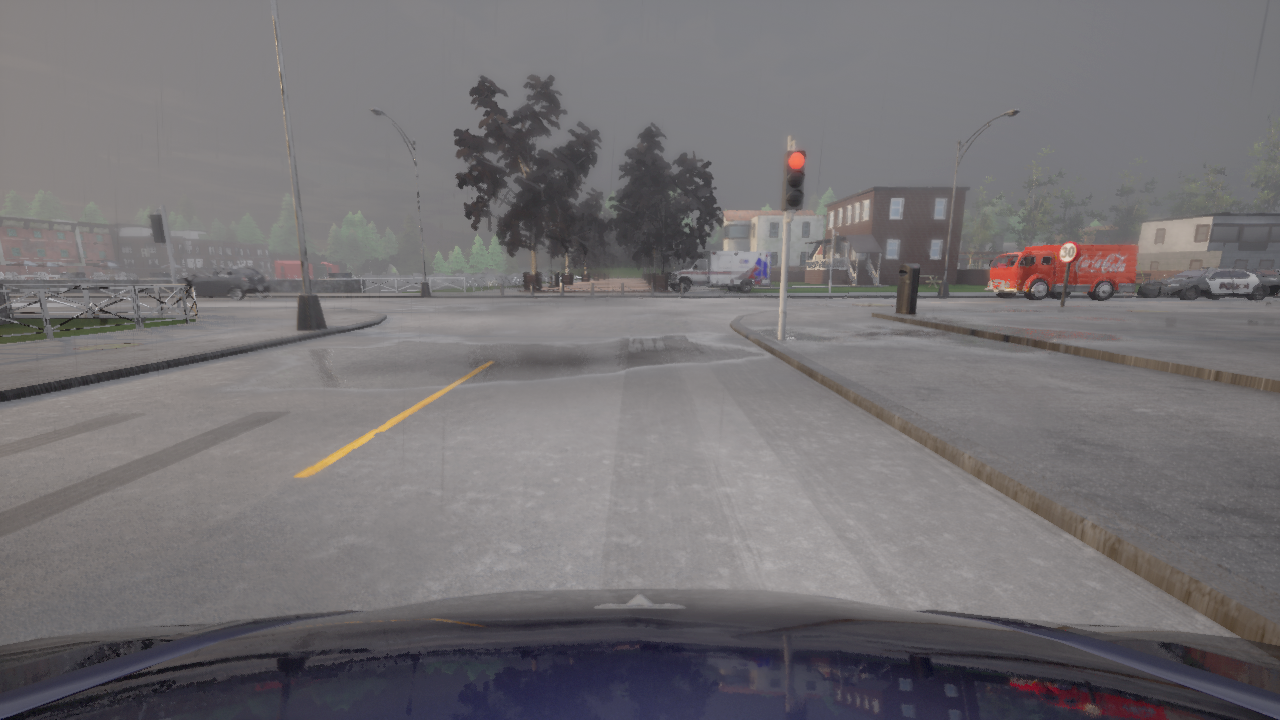cyclist: (0, 588, 1279, 719), (984, 244, 1138, 301), (1136, 266, 1279, 300), (667, 250, 773, 292), (171, 266, 271, 300), (1246, 268, 1279, 280)
